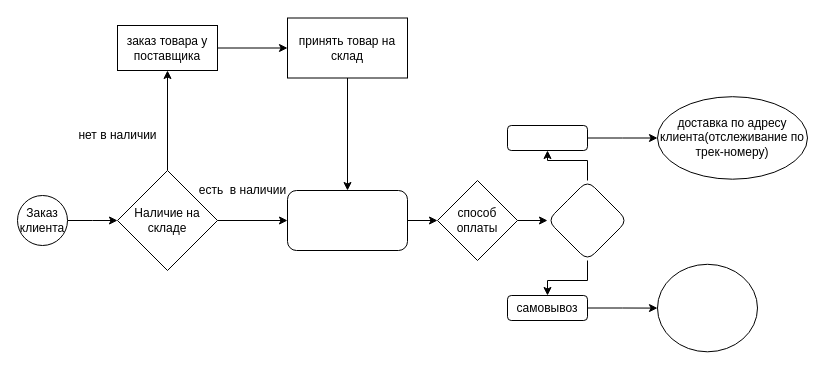
The diagram is 825 pixels wide and 369 high, and some of its shapes have lost their labels. Each missing label, with the centre of its shape:
"выбор пункта выдачи\склада" belongs at (707,307).
"курьер" belongs at (547,137).
"способ доставки" belongs at (587,220).
"формирование заказа" belongs at (347,220).
